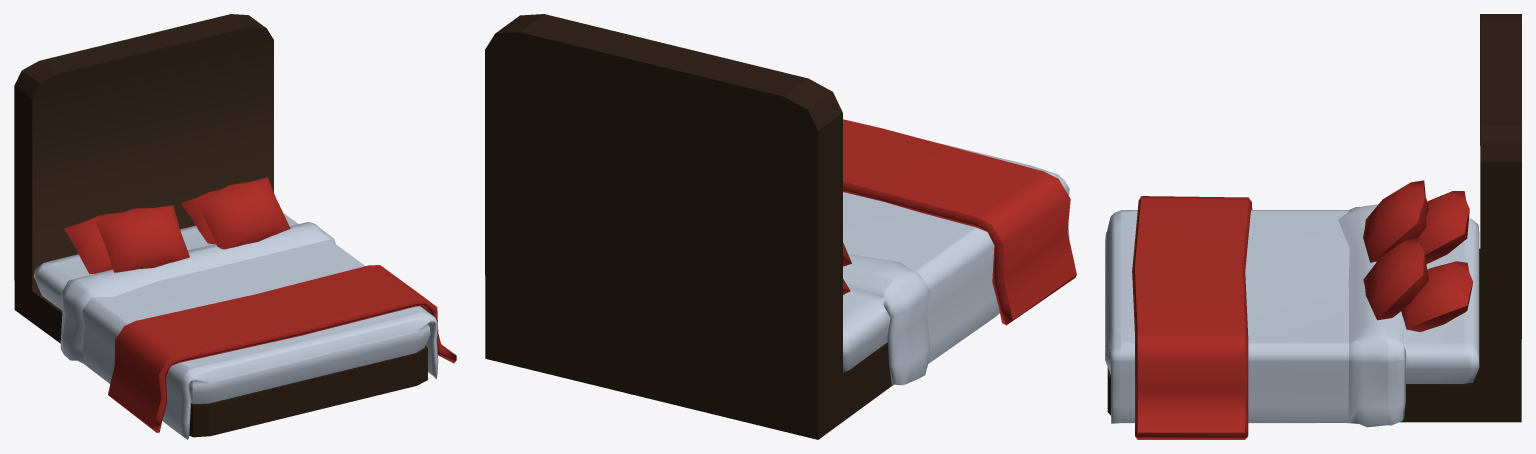
File: Bed-Large-Hotel_01.fbx
The picture shows the model from 3 angles, left to right: view 1: azimuth 30°, elevation 25°; view 2: azimuth 150°, elevation 25°; view 3: azimuth 270°, elevation 25°; orthographic projection. The views are drawn at different scales.
Parts seen in each view (by area): view 1: LuxuryBed; view 2: LuxuryBed; view 3: LuxuryBed.
Boxes of the visible parts, left/top/right/bottom form: LuxuryBed: left=14, top=14, right=456, bottom=439; LuxuryBed: left=485, top=14, right=1076, bottom=439; LuxuryBed: left=1105, top=14, right=1521, bottom=439.
Size of the model in its own units: 2.77 by 2.14 by 2.86.
